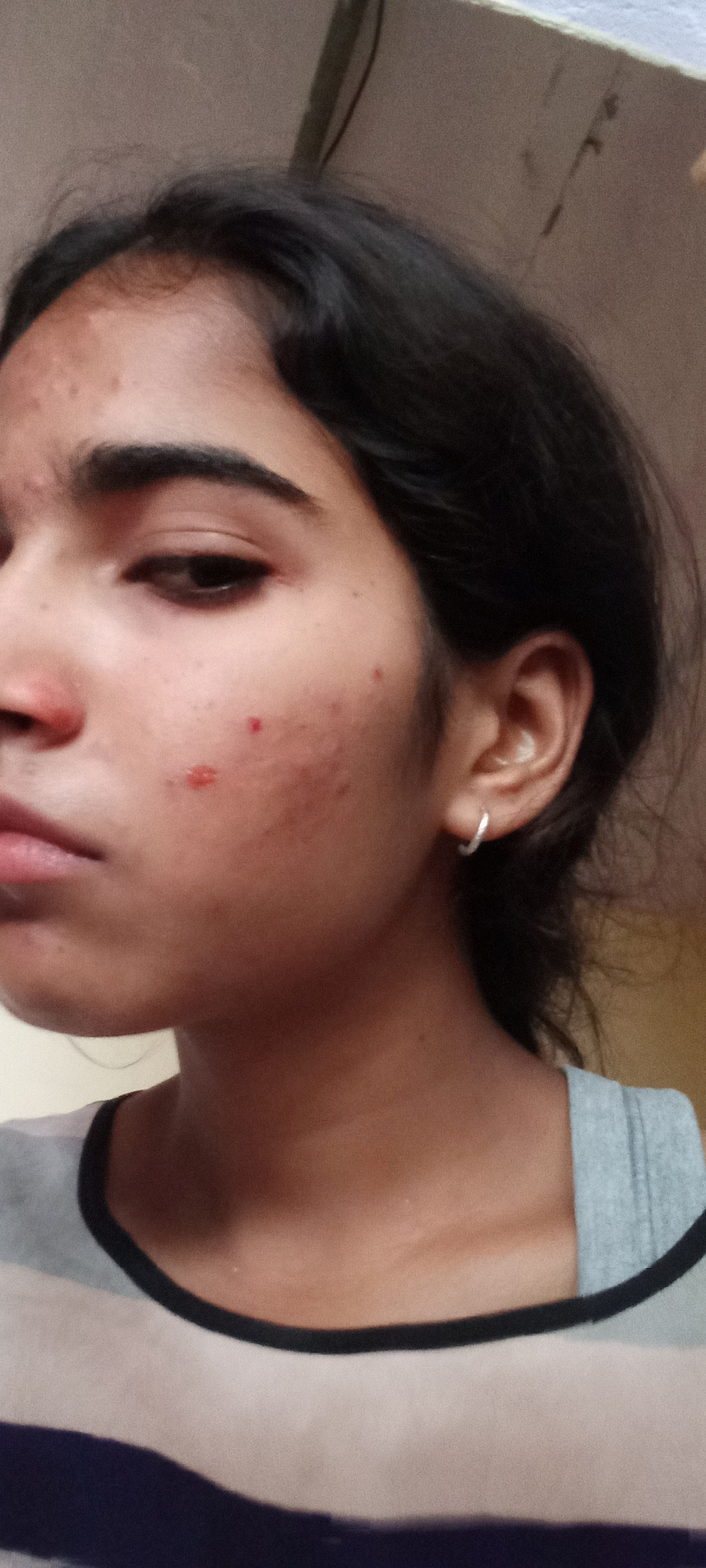nodule: (193, 885, 230, 926), (292, 758, 322, 784), (24, 474, 49, 492), (336, 774, 351, 797), (330, 739, 347, 757), (27, 392, 40, 411), (79, 312, 96, 325), (111, 373, 121, 392), (47, 380, 57, 393)
papule: (327, 698, 341, 715), (373, 667, 381, 682)
